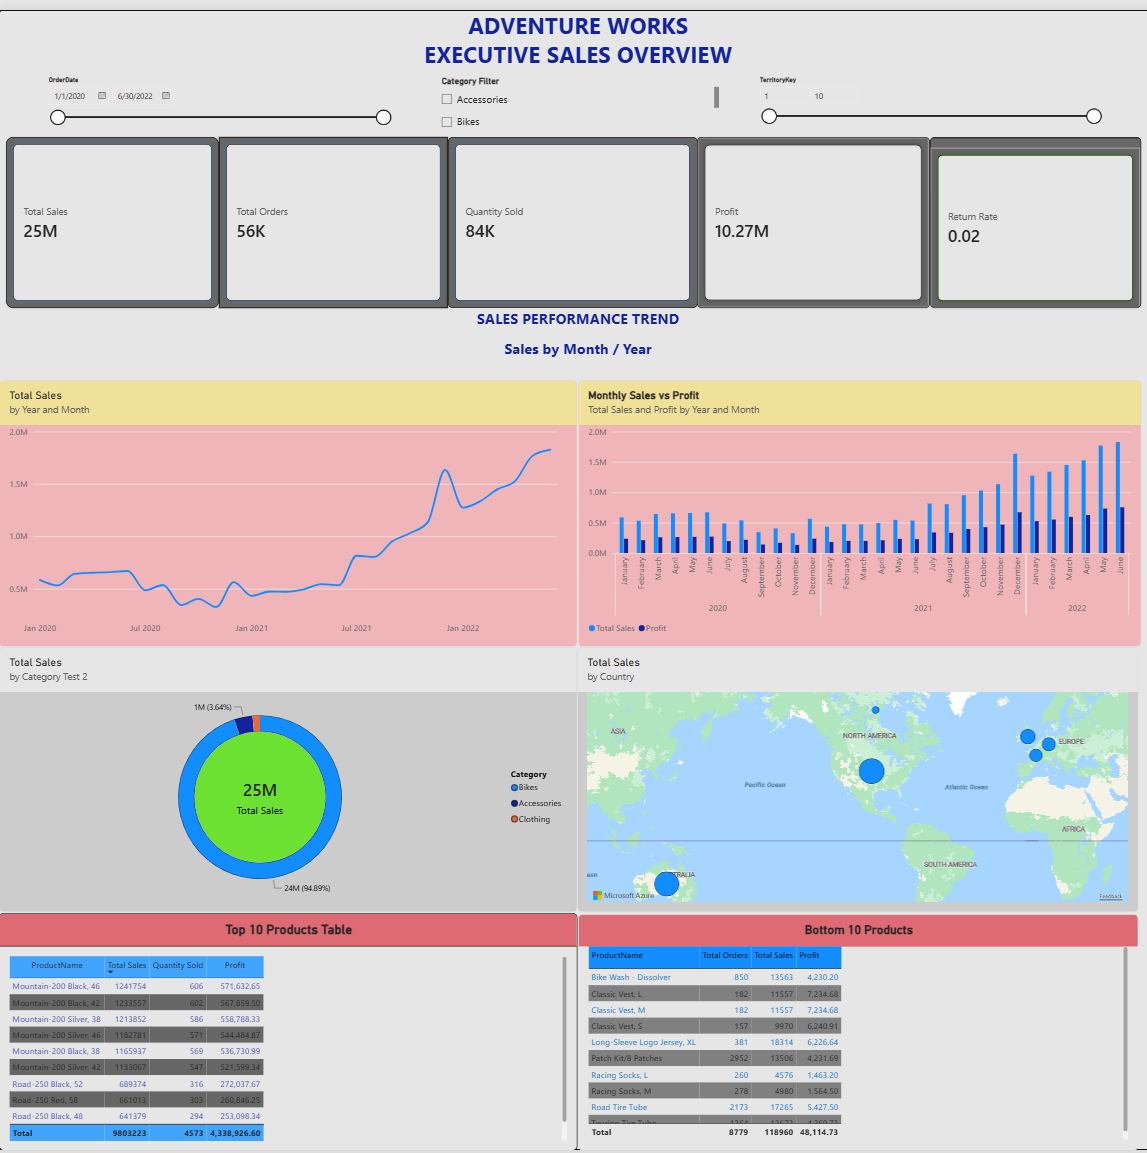

What the dashboard file says about the page in this screenshot:
{"tool":"powerbi","page":{"name":"EXECUTIVE SUMMARY","canvas":[1280,1900],"ordinal":0},"visuals":[{"type":"textbox","box":[11.3,0,1907.7,65.2],"z":0},{"type":"textbox","box":[10.9,48.3,1907.8,62.3],"z":1000},{"type":"cardVisual","fields":{"Data":["Sales_All_Years.Total Sales"]},"box":[10.9,211.8,355.1,285],"z":2000},{"type":"cardVisual","fields":{"Data":["Sales_All_Years.Total Orders"]},"box":[366,211.8,381.6,285],"z":3000},{"type":"cardVisual","fields":{"Data":["Sales_All_Years.Quantity Sold"]},"box":[747.5,211.8,415.8,285],"z":4000},{"type":"cardVisual","fields":{"Data":["Sales_All_Years.Profit"]},"box":[1163.4,211.8,387.8,285],"z":5000},{"type":"cardVisual","fields":{"Data":["AdventureWorks Returns Data.Return Rate"]},"box":[1552.5,211.5,352,285],"z":6000},{"type":"textbox","box":[11,496.4,1907.3,104],"z":7000},{"type":"clusteredColumnChart","title":"Monthly Sales vs Profit","fields":{"Category":["Sales_All_Years.OrderDate.Variation.Date Hierarchy.Year","Sales_All_Years.OrderDate.Variation.Date Hierarchy.Month"],"Y":["Sales_All_Years.Total Sales","Sales_All_Years.Profit"]},"box":[965.6,616.7,939.1,445.4],"z":8000},{"type":"slicer","fields":{"Values":["Sales_All_Years.OrderDate"]},"box":[74.8,110.6,582.5,90.3],"z":9000},{"type":"slicer","fields":{"Values":["Sales_All_Years.TerritoryKey"]},"box":[1259.9,110.6,580.9,90.3],"z":10000},{"type":"lineChart","fields":{"Category":["Sales_All_Years.OrderDate.Variation.Date Hierarchy.Year","Sales_All_Years.OrderDate.Variation.Date Hierarchy.Month"],"Y":["Sales_All_Years.Total Sales"]},"box":[0,616.7,964,445.4],"z":11000},{"type":"donutChart","fields":{"Category":["AdventureWorks Product Subcateg.Category Test 2"],"Y":["Sales_All_Years.Total Sales"]},"box":[0,1062.1,964,442.3],"z":12000},{"type":"slicer","fields":{"Values":["AdventureWorks Territory Lookup.Country","AdventureWorks Territory Lookup.SalesTerritoryKey"]},"box":[1610,1080,270,234],"z":13000},{"type":"slicer","fields":{"Values":["AdventureWorks Product Subcateg.Category Test 2"]},"box":[730.4,110.6,470.3,91.9],"z":14000},{"type":"azureMap","fields":{"Category":["AdventureWorks Territory Lookup.Country"],"Size":["Sales_All_Years.Total Sales"]},"box":[964,1062.1,936,442.3],"z":15000},{"type":"tableEx","title":"Top 10 Products Table","fields":{"Values":["AdventureWorks Product Lookup.ProductName","Sales_All_Years.Total Sales","Sales_All_Years.Quantity Sold","Sales_All_Years.Profit"]},"box":[0,1504.4,964,395.6],"z":16000},{"type":"tableEx","title":"Bottom 10 Products","fields":{"Values":["AdventureWorks Product Lookup.ProductName","Sales_All_Years.Total Orders","Sales_All_Years.Total Sales","Sales_All_Years.Profit"]},"box":[965.6,1506,934.4,394],"z":17000}]}

Visuals, with their boxes on the page's 1280x1900 design canvas (x1, y1, x2, y2). These are canvas units, not pixel positions in the 1147x1153 screenshot, which may show the page scaled, cropped or inside an application window:
textbox: [11,0,1919,65]
textbox: [11,48,1919,111]
cardVisual - Sales_All_Years.Total Sales: [11,212,366,497]
cardVisual - Sales_All_Years.Total Orders: [366,212,748,497]
cardVisual - Sales_All_Years.Quantity Sold: [748,212,1163,497]
cardVisual - Sales_All_Years.Profit: [1163,212,1551,497]
cardVisual - AdventureWorks Returns Data.Return Rate: [1552,212,1904,496]
textbox: [11,496,1918,600]
"Monthly Sales vs Profit" clusteredColumnChart: [966,617,1905,1062]
slicer - Sales_All_Years.OrderDate: [75,111,657,201]
slicer - Sales_All_Years.TerritoryKey: [1260,111,1841,201]
lineChart - Sales_All_Years.OrderDate.Variation.Date Hierarchy.Year x Sales_All_Years.OrderDate.Variation.Date Hierarchy.Month: [0,617,964,1062]
donutChart - AdventureWorks Product Subcateg.Category Test 2 x Sales_All_Years.Total Sales: [0,1062,964,1504]
slicer - AdventureWorks Territory Lookup.Country x AdventureWorks Territory Lookup.SalesTerritoryKey: [1610,1080,1880,1314]
slicer - AdventureWorks Product Subcateg.Category Test 2: [730,111,1201,202]
azureMap - AdventureWorks Territory Lookup.Country x Sales_All_Years.Total Sales: [964,1062,1900,1504]
"Top 10 Products Table" tableEx: [0,1504,964,1900]
"Bottom 10 Products" tableEx: [966,1506,1900,1900]
